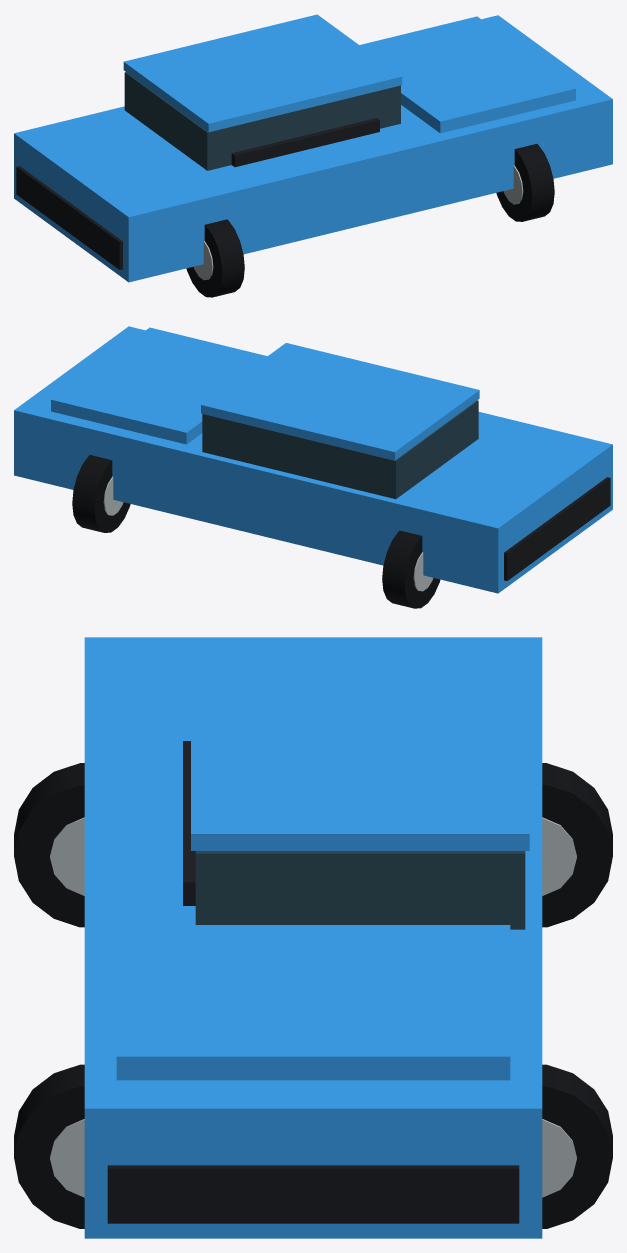
The model's file is ford_mustang_dark_horse.glb.
3 renders of one model, top to bottom at view 1: azimuth 30°, elevation 25°; view 2: azimuth 150°, elevation 25°; view 3: azimuth 270°, elevation 25°, orthographic. The views are drawn at different scales.
Visible parts, largest first — view 1: body, roof, hood, cabin, rear_bumper, rear_right_wheel, front_right_wheel, interior; view 2: body, roof, hood, cabin, rear_bumper, rear_left_wheel, front_left_wheel; view 3: body, roof, hood, cabin, front_bumper, front_left_wheel, front_right_wheel, rear_left_wheel, rear_right_wheel, interior.
Boxes of the visible parts, left/top/right/bottom form: body: left=14, top=15, right=612, bottom=282; roof: left=123, top=14, right=402, bottom=132; hood: left=359, top=16, right=575, bottom=133; cabin: left=124, top=72, right=400, bottom=170; rear_bumper: left=16, top=166, right=122, bottom=269; rear_right_wheel: left=186, top=219, right=244, bottom=297; front_right_wheel: left=496, top=144, right=554, bottom=221; interior: left=231, top=118, right=379, bottom=167; body: left=14, top=326, right=612, bottom=593; roof: left=201, top=343, right=479, bottom=460; hood: left=51, top=327, right=267, bottom=444; cabin: left=202, top=400, right=478, bottom=499; rear_bumper: left=504, top=477, right=610, bottom=580; rear_left_wheel: left=382, top=530, right=440, bottom=608; front_left_wheel: left=72, top=455, right=130, bottom=532; body: left=84, top=637, right=542, bottom=1238; roof: left=191, top=645, right=529, bottom=850; hood: left=116, top=925, right=510, bottom=1080; cabin: left=195, top=851, right=525, bottom=929; front_bumper: left=107, top=1165, right=519, bottom=1223; front_left_wheel: left=542, top=1064, right=612, bottom=1228; front_right_wheel: left=14, top=1064, right=84, bottom=1228; rear_left_wheel: left=542, top=763, right=612, bottom=927; rear_right_wheel: left=14, top=763, right=84, bottom=927; interior: left=183, top=741, right=195, bottom=905.
Size of the model in its own units: 4.81 by 1.36 by 2.55.
